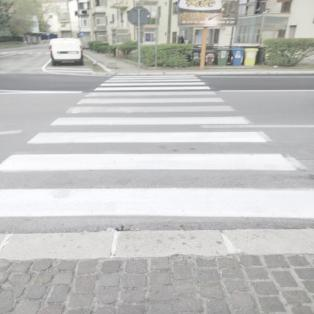Paso de Cebra: (22, 113, 274, 148), (82, 86, 220, 98)
